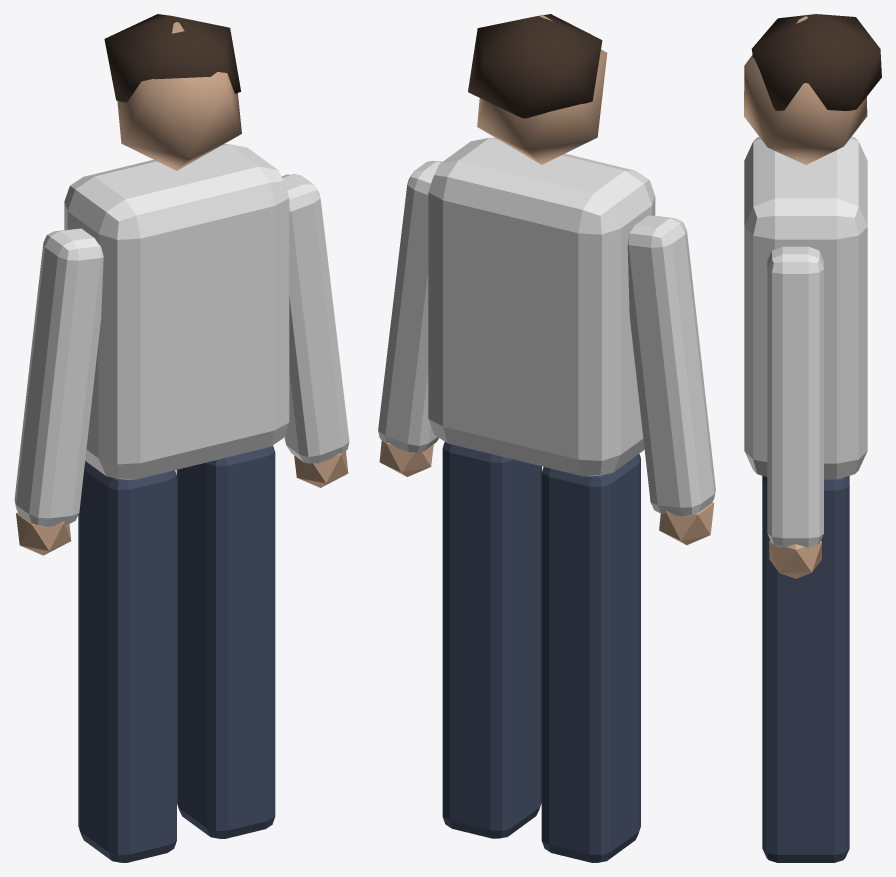
The model's file is person_a.glb.
3 renders of one model, left to right at view 1: azimuth 30°, elevation 25°; view 2: azimuth 150°, elevation 25°; view 3: azimuth 270°, elevation 25°, orthographic.
Visible parts, largest first — view 1: person_a; view 2: person_a; view 3: person_a.
Boxes of the visible parts, x1=… form: person_a: x1=14, y1=14, x2=349, y2=862; person_a: x1=378, y1=14, x2=715, y2=862; person_a: x1=744, y1=14, x2=881, y2=862.
Bounding box in the file's own units: 0.7277 × 1.75 × 0.2678.
